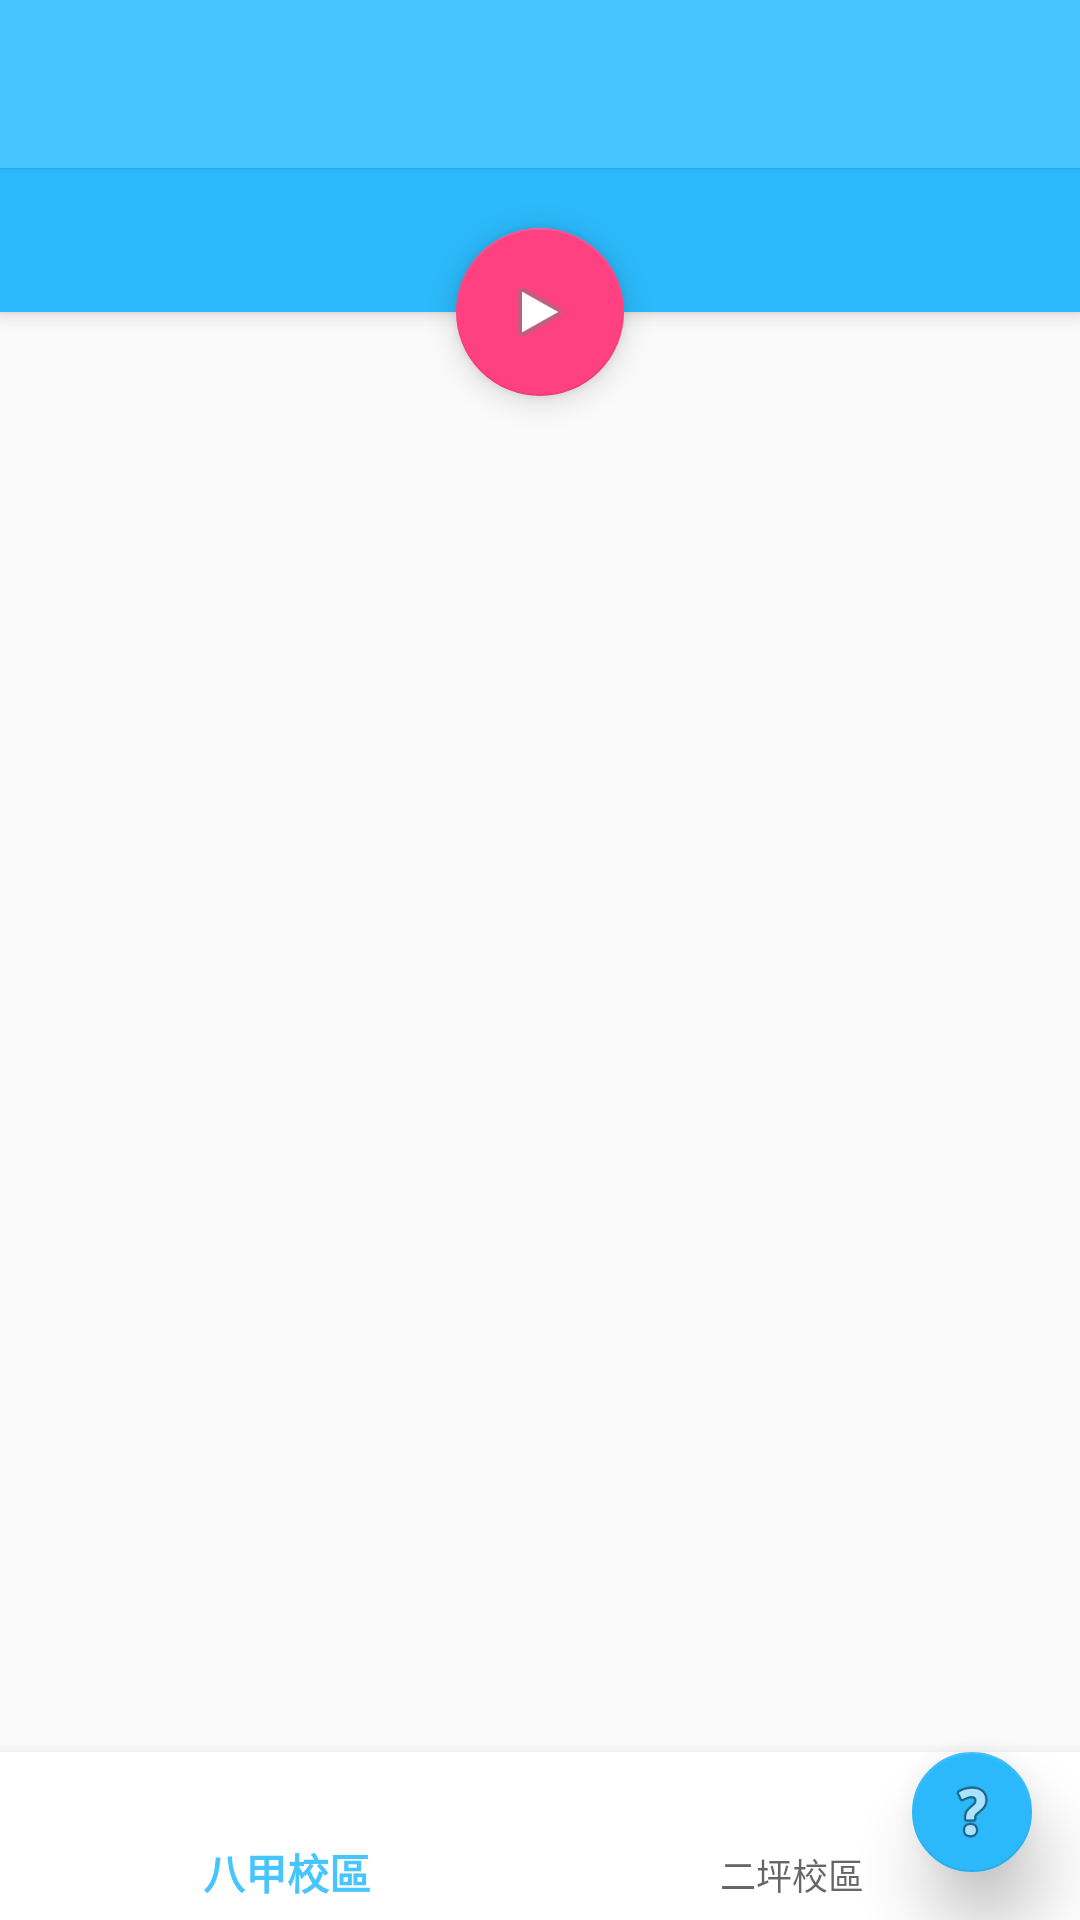

Icon click points for this 1080px×1920px phone screenshot, format point (x, y):
help: point (972, 1812)
play: point (540, 312)
